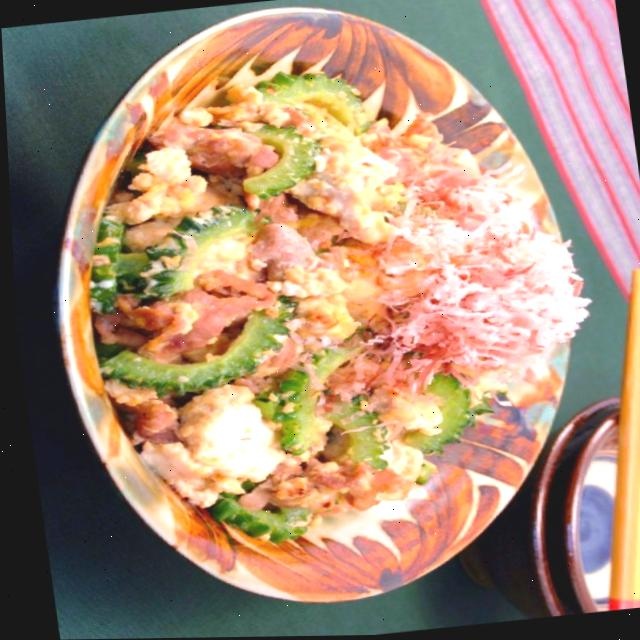熟制海鲜: (27, 0, 628, 605)
